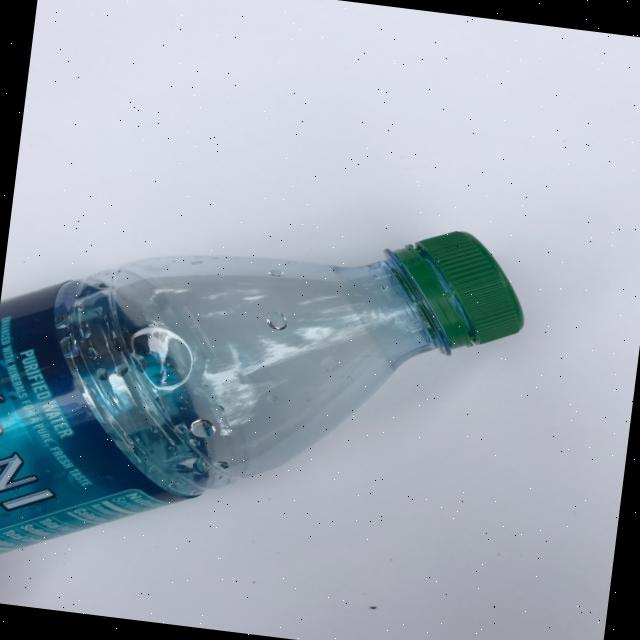plastic: (0, 174, 534, 621)
